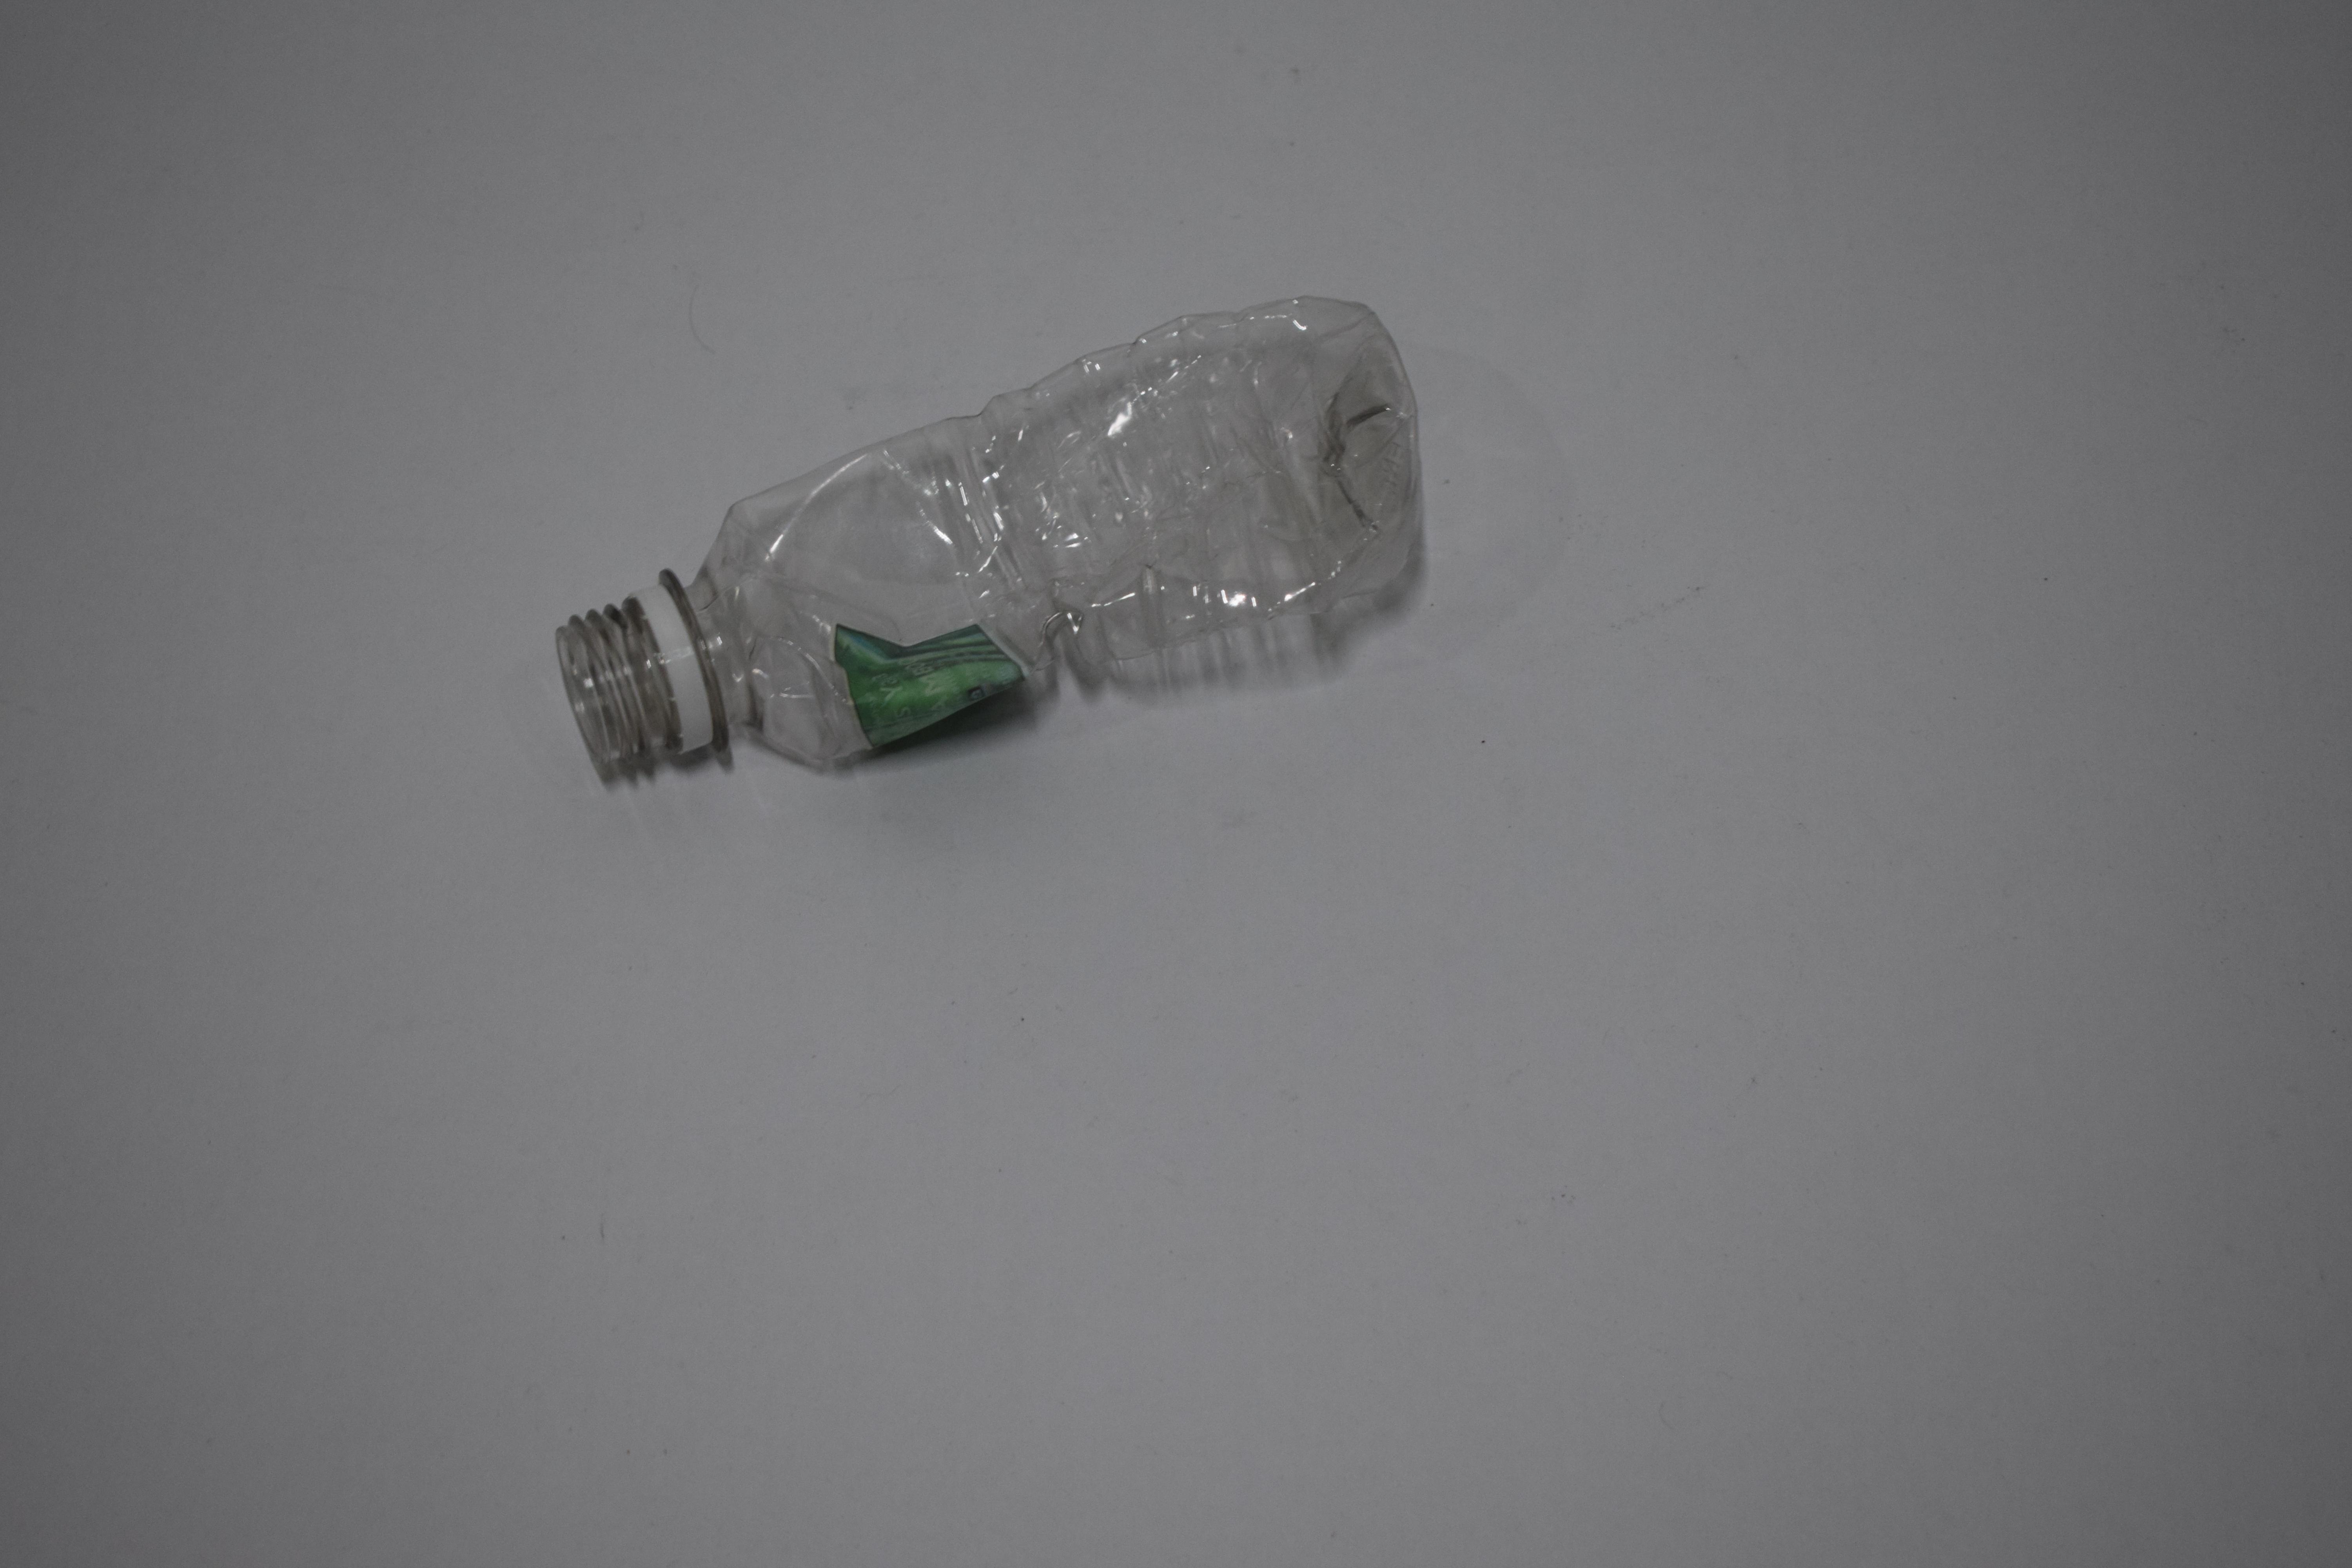bottle: (544, 282, 1435, 795)
